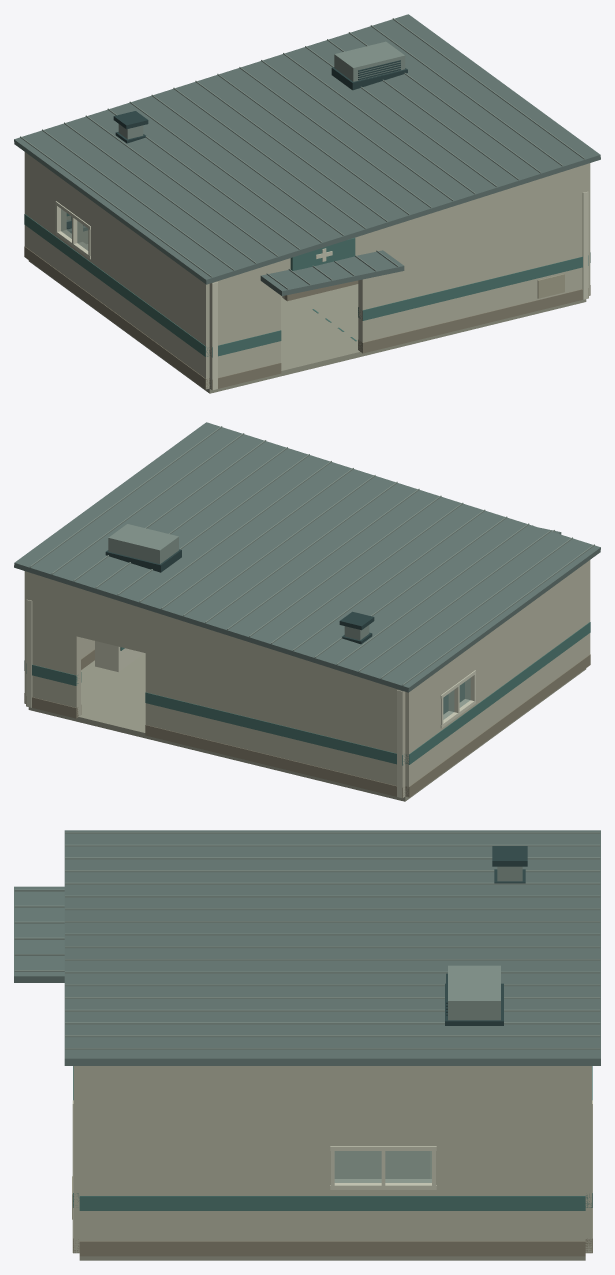
File: FSA_ENV_Epidemic_01_ScreeningStation.glb
3 views of the same model, one above another, from view 1: azimuth 30°, elevation 25°; view 2: azimuth 150°, elevation 25°; view 3: azimuth 270°, elevation 25° (orthographic). The views are drawn at different scales.
Visible parts, largest first — view 1: RoofMain, FrontRight, WestRight, Floor, FrontLeft, RoofEntryCanopy, WestLeft, FrontRightBase, FrontRightBand, RoofServiceBox, WestRightBase, WestRightBand (+10 smaller); view 2: RoofMain, BackLeft, WestRight, Floor, BackRight, WestLeft, BackLeftBand, BackLeftBase, RoofServiceBox, BackLintel, WestRightBand, WestRightBase (+9 smaller); view 3: RoofMain, EastRight, RoofSideInfill107, EastLeft, RoofEntryCanopy, EastRightBase, EastLintel, EastRightBand, EastSill, EastGlass, RoofServiceBox, MedicalCabinet (+27 smaller).
Part boxes in pixels (box(x1,y1,x2,y2)): RoofMain: box(14, 14, 600, 284); FrontRight: box(358, 193, 582, 352); WestRight: box(90, 200, 209, 389); Floor: box(28, 260, 586, 393); FrontLeft: box(209, 266, 280, 389); RoofEntryCanopy: box(260, 250, 404, 296); WestLeft: box(24, 152, 57, 269); FrontRightBase: box(358, 288, 588, 353); FrontRightBand: box(358, 255, 588, 320); RoofServiceBox: box(334, 41, 405, 81); WestRightBase: box(89, 294, 209, 389); WestRightBand: box(89, 262, 209, 356); RoofMain: box(14, 422, 600, 692); BackLeft: box(145, 628, 405, 797); WestRight: box(474, 560, 590, 738); Floor: box(28, 653, 586, 801); BackRight: box(32, 601, 80, 716); WestLeft: box(405, 669, 441, 796); BackLeftBand: box(145, 692, 404, 765); BackLeftBase: box(145, 725, 404, 798); RoofServiceBox: box(108, 524, 178, 563); BackLintel: box(76, 612, 145, 652); WestRightBand: box(474, 622, 590, 716); WestRightBase: box(474, 654, 590, 749); RoofMain: box(64, 830, 600, 1065); EastRight: box(79, 1107, 332, 1241); RoofSideInfill107: box(79, 1066, 585, 1106); EastLeft: box(434, 1107, 585, 1241); RoofEntryCanopy: box(14, 886, 64, 982); EastRightBase: box(79, 1241, 332, 1256); EastLintel: box(332, 1107, 433, 1145); EastRightBand: box(79, 1196, 332, 1210); EastSill: box(332, 1190, 433, 1241); EastGlass: box(334, 1151, 431, 1182); RoofServiceBox: box(448, 965, 500, 1020); MedicalCabinet: box(334, 1151, 430, 1178).
Bounding box in the file's own units: 12.58 × 4.93 × 11.6.
